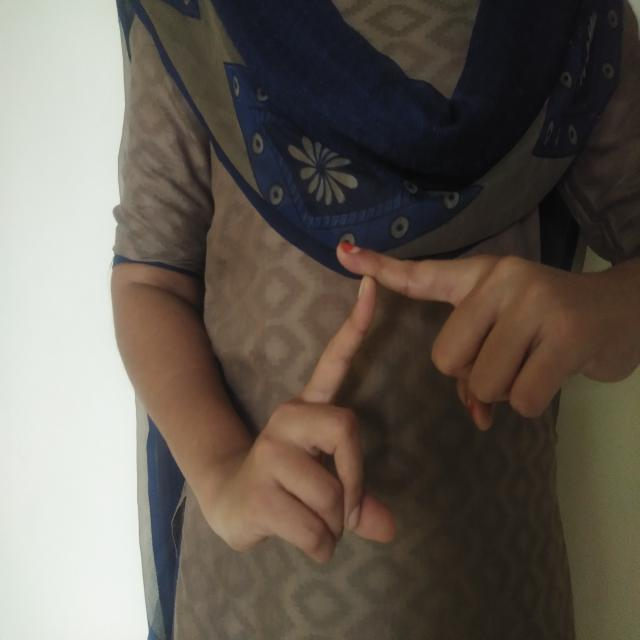T: (232, 225, 606, 580)
